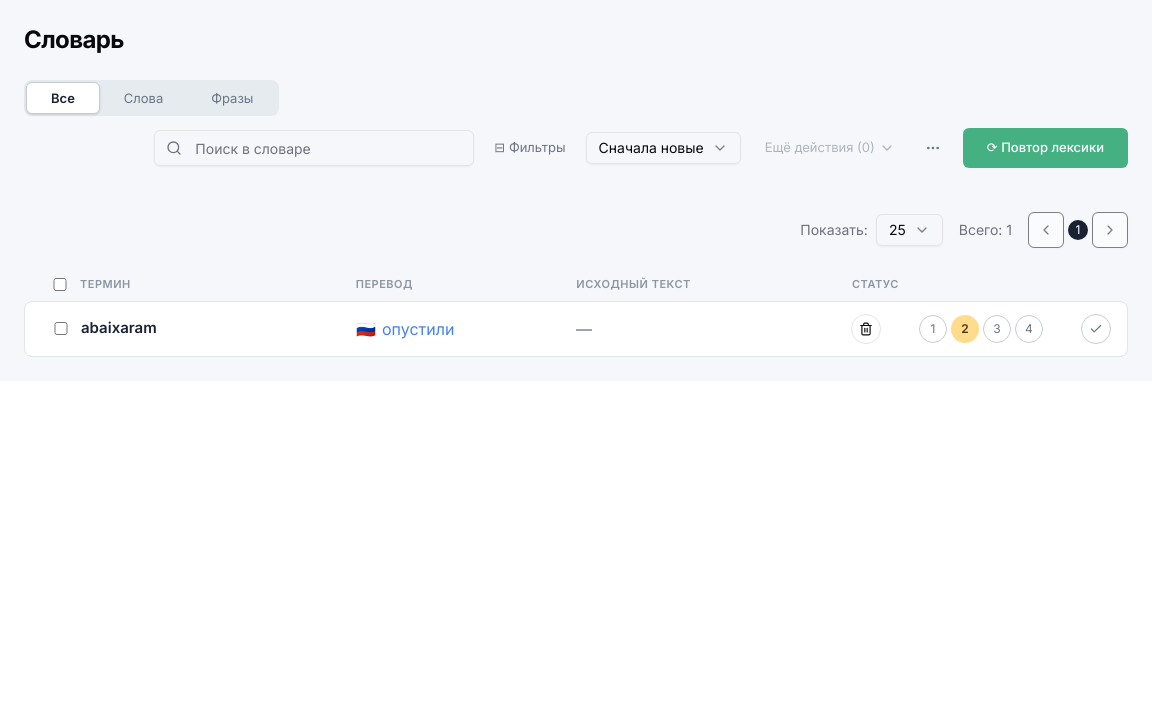
Scenario: VocabularyPage states › opens the WordCard when a term is clicked and invalidates the list on close
The width and height of the screenshot is (1152, 720).
Click the button "abaixaram" at (119, 329), box [81,317,157,340]
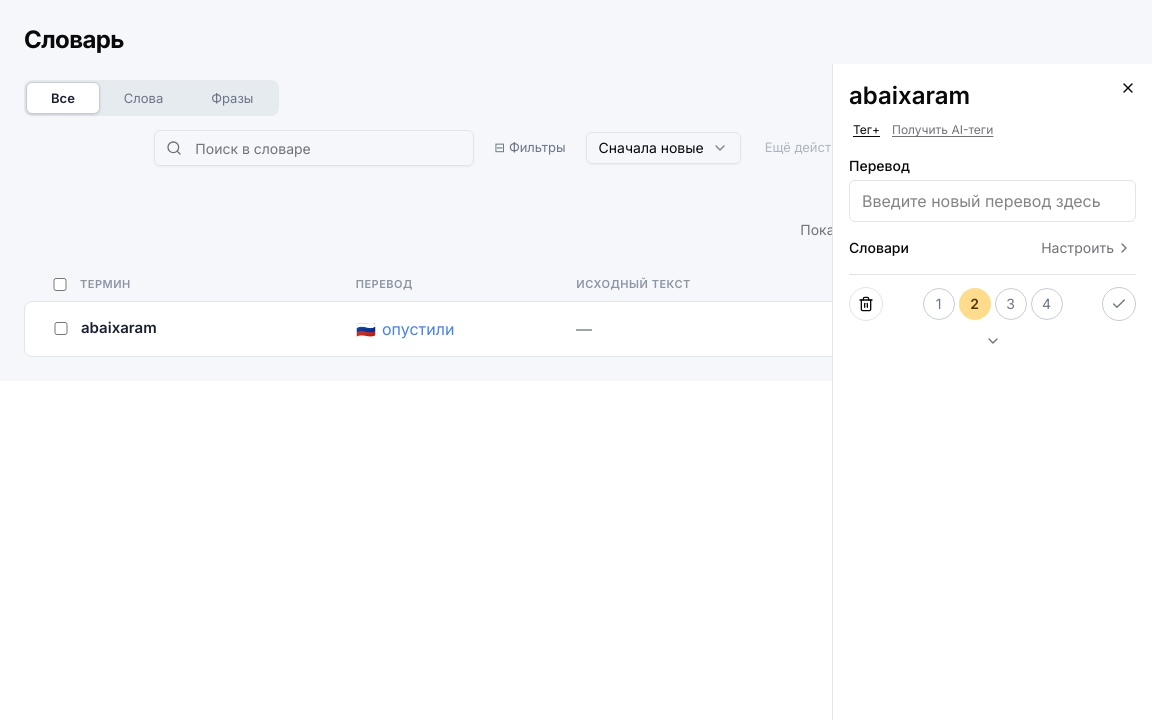
Expected: the element with test id "word-card" is shown, [832,64,1151,719]
